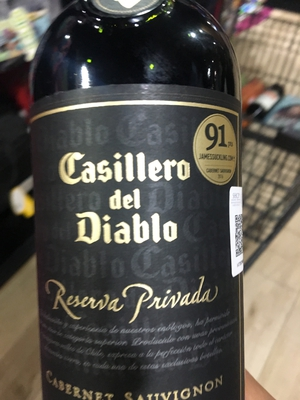casillero del diablo reserva privada cabernet sauvignon: (27, 6, 261, 400)
